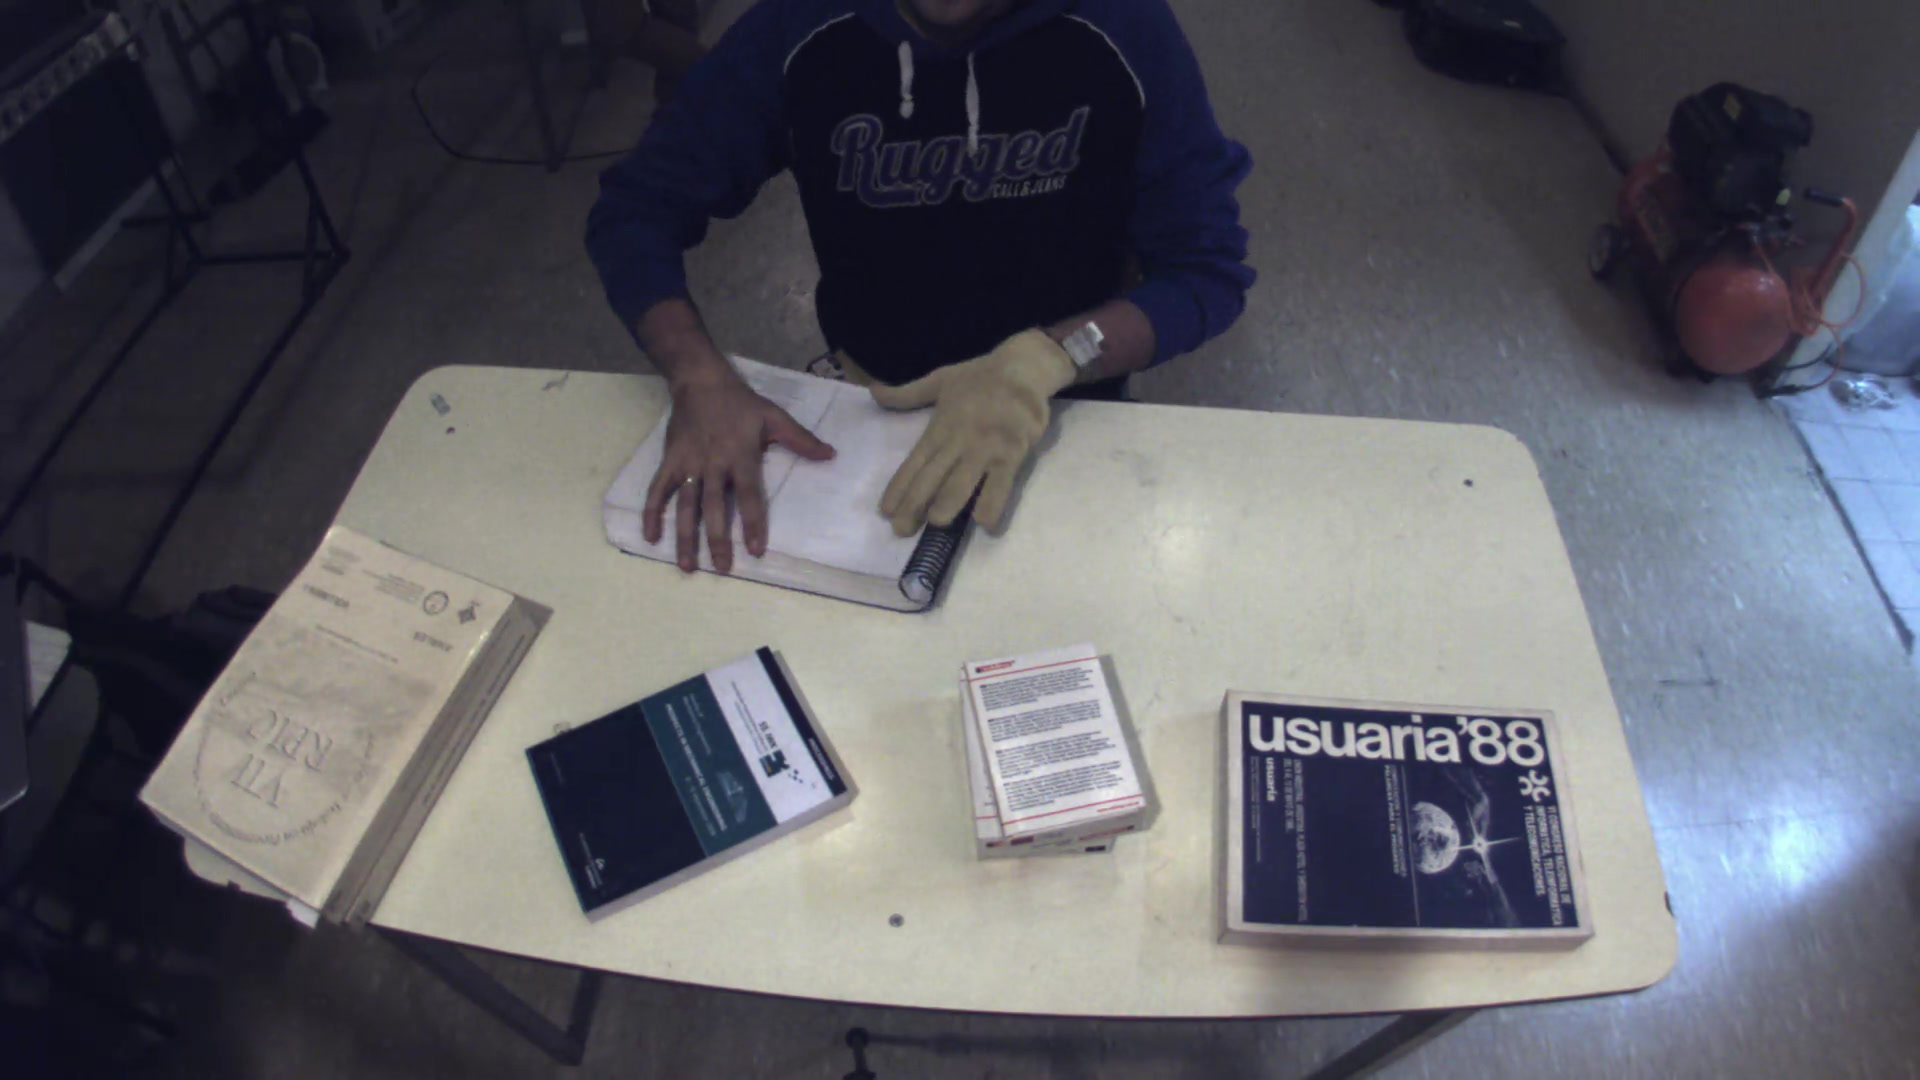hand: (855, 319, 1093, 529), (621, 359, 841, 578)
